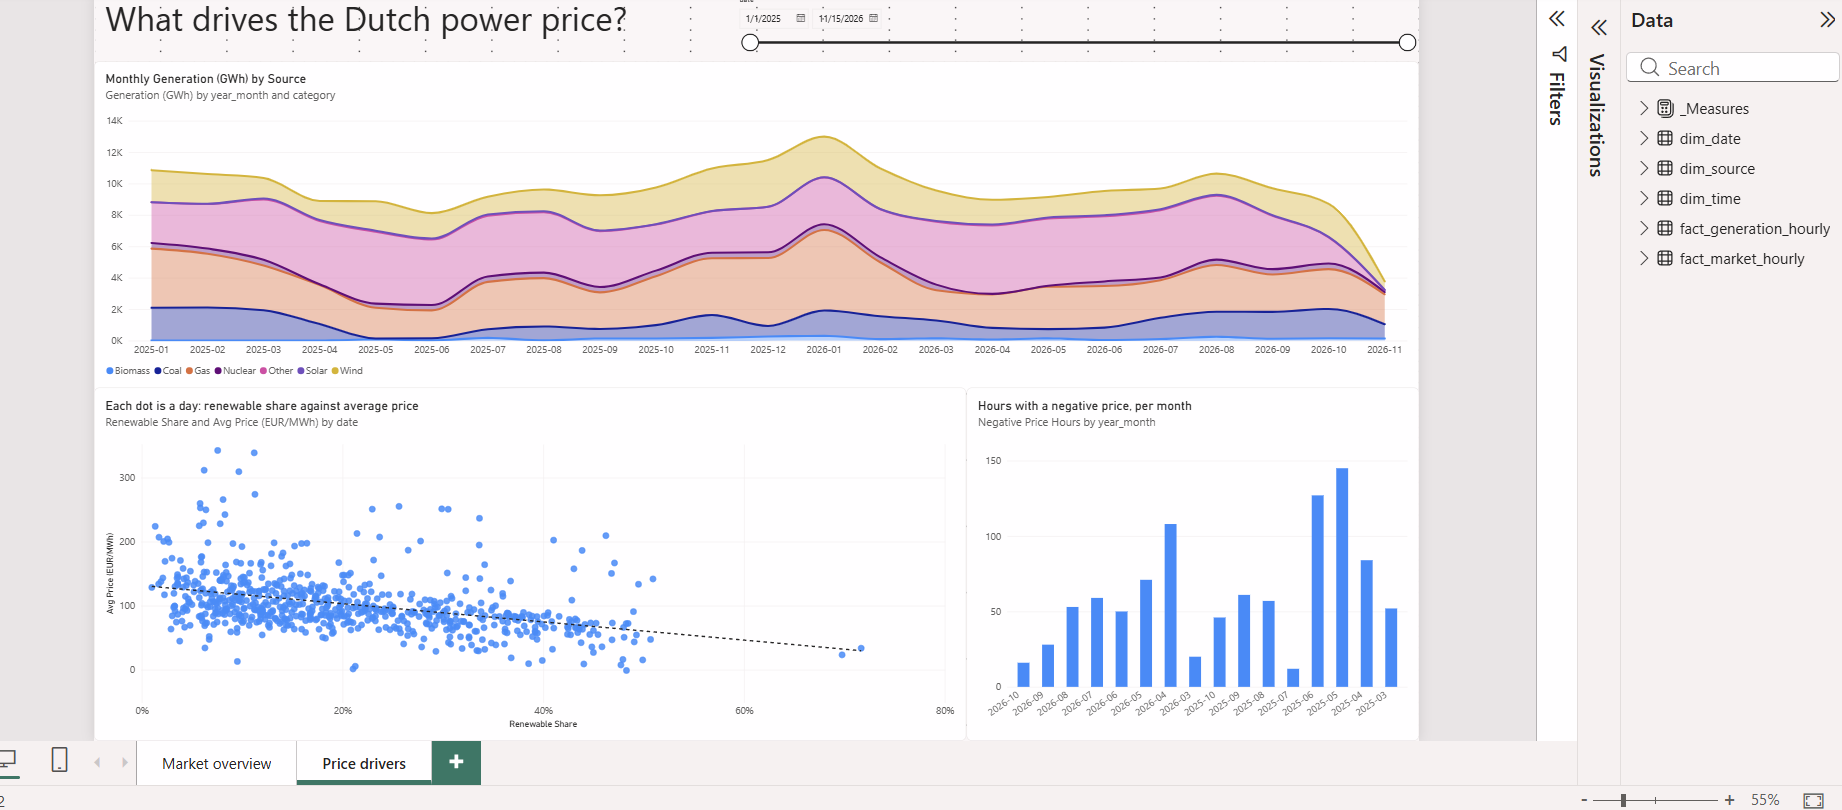

The page's visual inventory and layout, read from the dashboard file:
{"tool":"powerbi","page":{"name":"Price drivers","canvas":[1920,1080],"ordinal":1},"visuals":[{"type":"textbox","box":[16,0,816,80],"z":0},{"type":"stackedAreaChart","title":"Monthly Generation (GWh) by Source","fields":{"Category":["dim_date.year_month"],"Series":["dim_source.category"],"Y":["_Measures.Generation (GWh)"]},"box":[0,96,1920,480],"z":1},{"type":"scatterChart","title":"Each dot is a day: renewable share against average price","fields":{"Category":["dim_date.date"],"X":["_Measures.Renewable Share"],"Y":["_Measures.Avg Price (EUR/MWh)"]},"box":[0,568,1264,512],"z":2},{"type":"clusteredColumnChart","title":"Hours with a negative price, per month","fields":{"Category":["dim_date.year_month"],"Y":["_Measures.Negative Price Hours"]},"box":[1264,568,656,512],"z":3},{"type":"slicer","fields":{"Values":["dim_date.date"]},"box":[928,0,992,128],"z":4}]}

Visuals, with their boxes on the page's 1920x1080 design canvas (x1, y1, x2, y2). These are canvas units, not pixel positions in the 1842x810 screenshot, which may show the page scaled, cropped or inside an application window:
textbox: l=16, t=0, r=832, b=80
"Monthly Generation (GWh) by Source" stackedAreaChart: l=0, t=96, r=1920, b=576
"Each dot is a day: renewable share against average price" scatterChart: l=0, t=568, r=1264, b=1080
"Hours with a negative price, per month" clusteredColumnChart: l=1264, t=568, r=1920, b=1080
slicer - dim_date.date: l=928, t=0, r=1920, b=128
